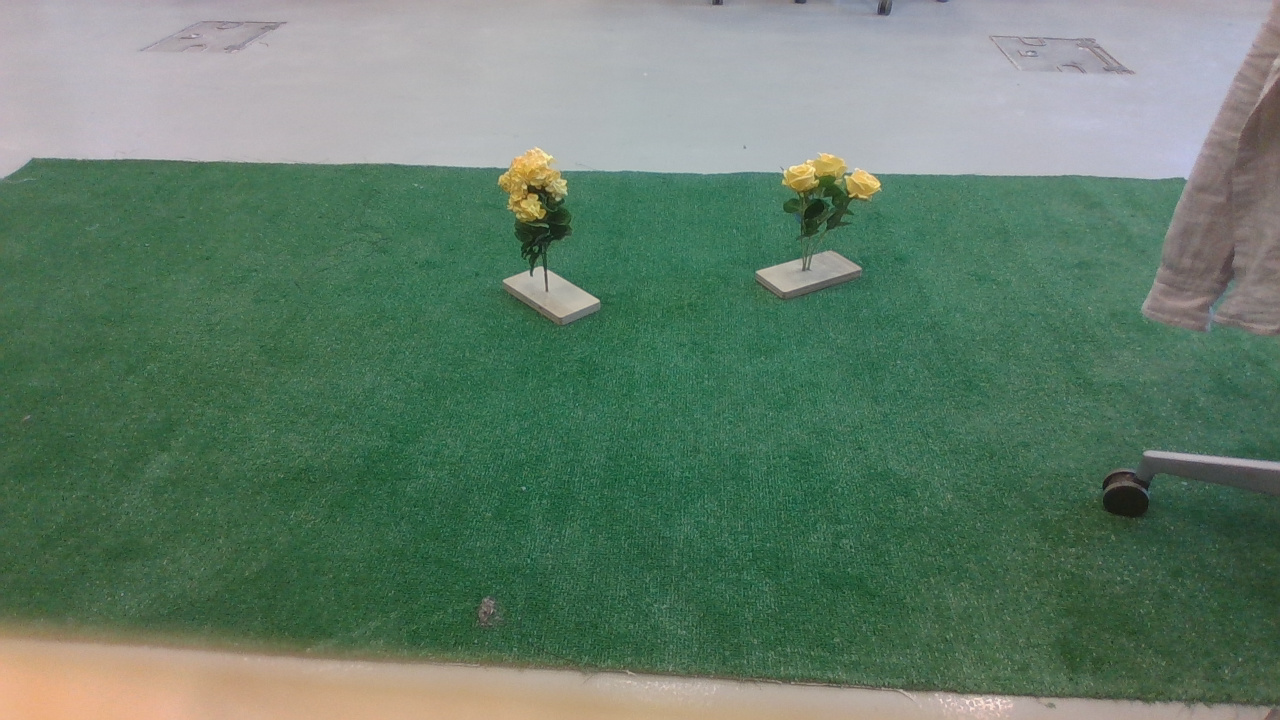geranium: (498, 142, 588, 264)
rose: (773, 150, 891, 246)
